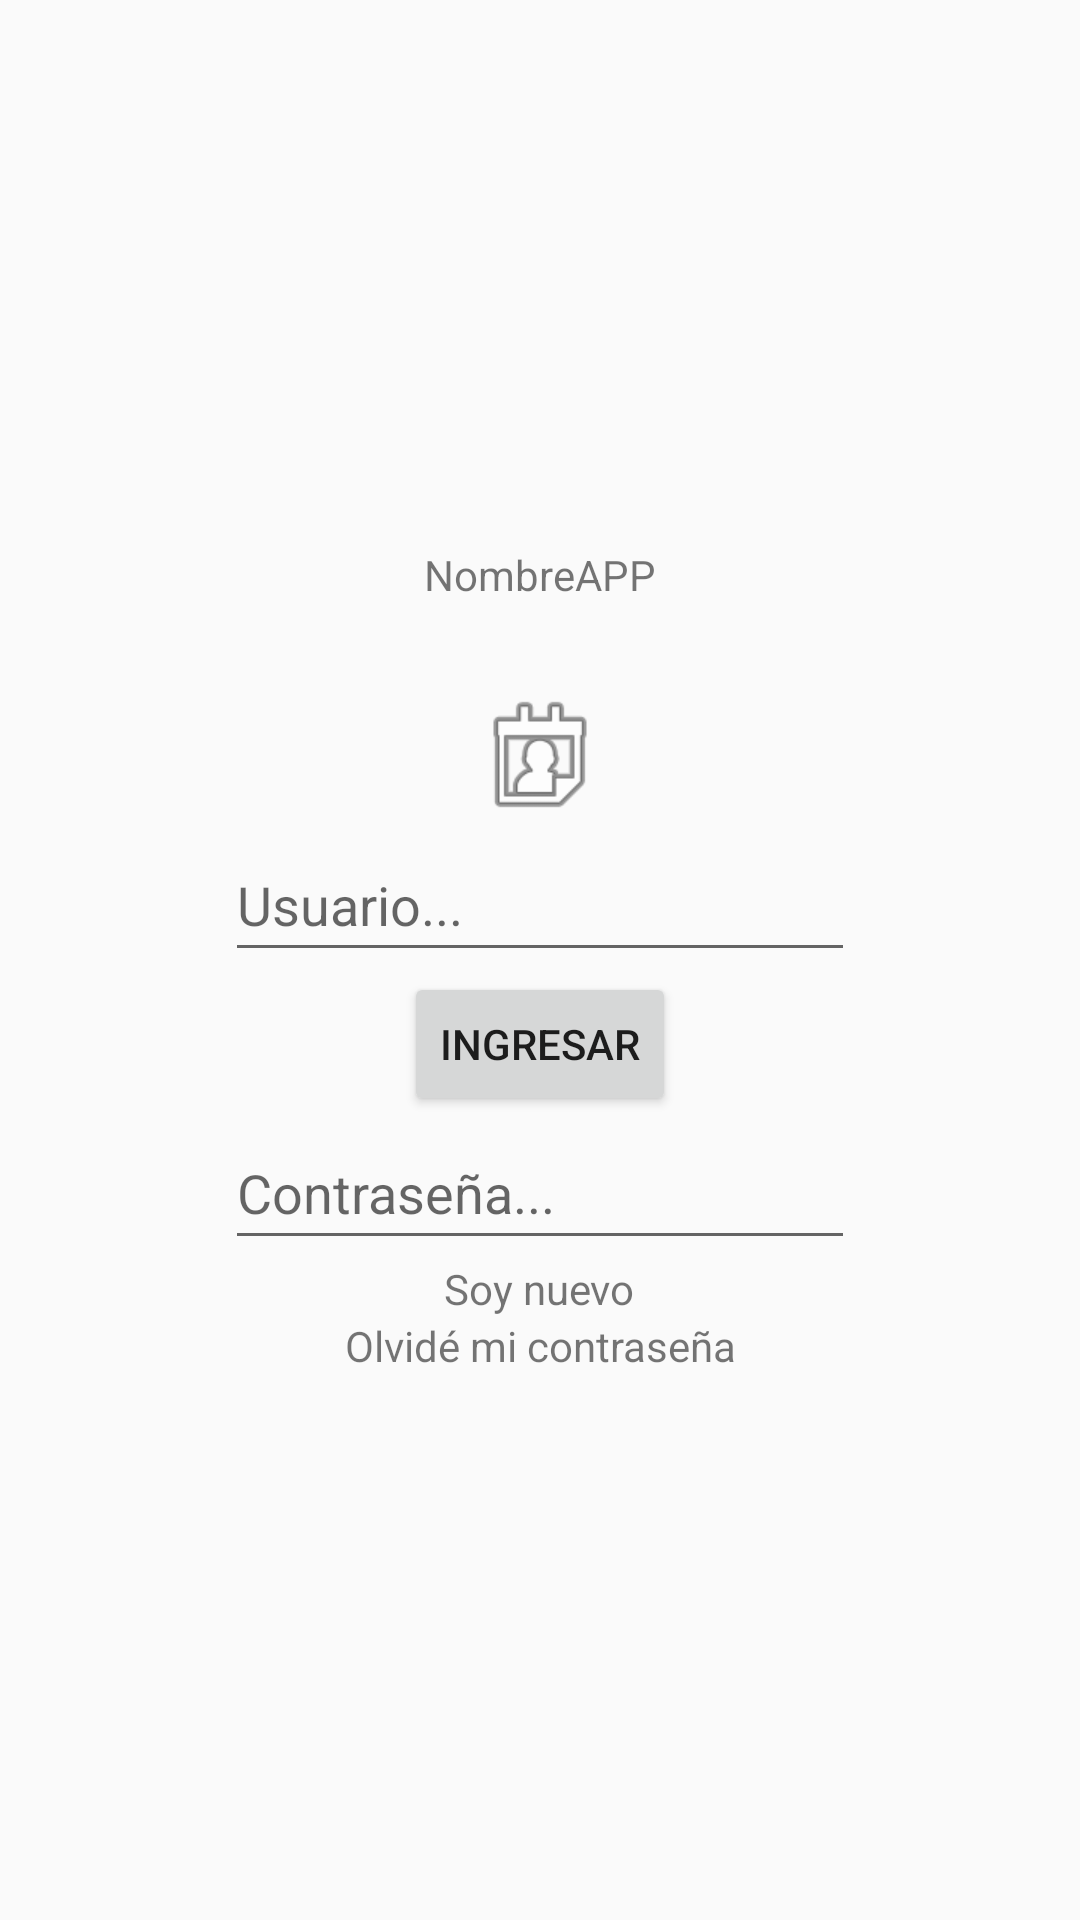

Icons on this 1080 x 1920 Android screen, each with the point to tap as point (x, y):
calendar: point (540, 754)
